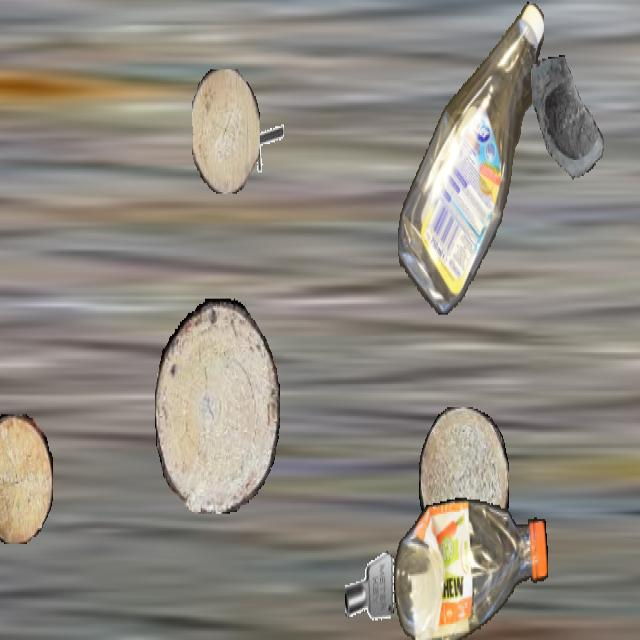glass: (531, 55, 613, 201)
metal: (345, 544, 395, 633), (246, 108, 284, 176)
plastic: (398, 2, 544, 314), (394, 496, 548, 638)
wood: (155, 299, 279, 512), (419, 407, 509, 557), (192, 69, 260, 194), (0, 414, 52, 542)
